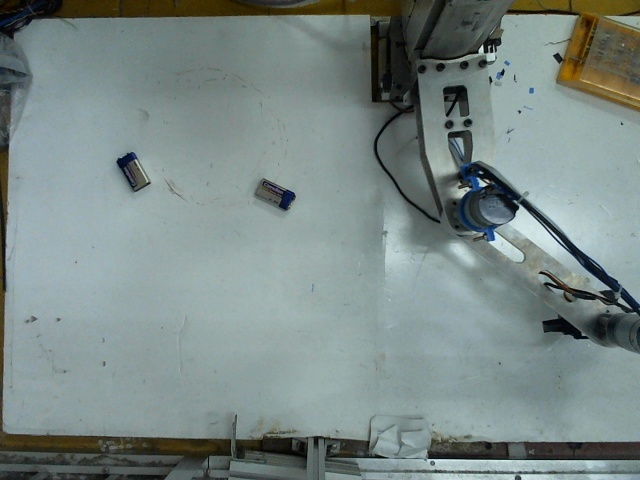battery: (113, 146, 154, 190), (253, 171, 296, 211)
